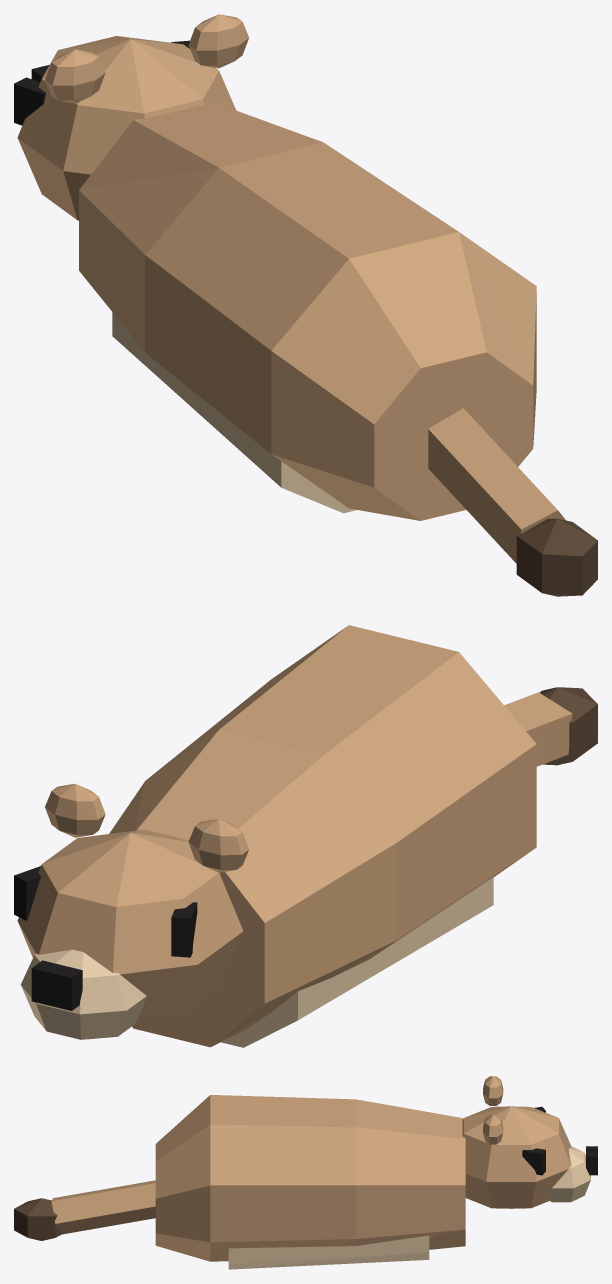
Rendered from animal_prairiedog.obj.
3 views of the same model, one above another, from view 1: azimuth 30°, elevation 25°; view 2: azimuth 150°, elevation 25°; view 3: azimuth 270°, elevation 25° (orthographic). The views are drawn at different scales.
Parts seen in each view (by area): view 1: animal_prairiedog; view 2: animal_prairiedog; view 3: animal_prairiedog.
Boxes of the visible parts, x1=… form: animal_prairiedog: x1=14, y1=14, x2=597, y2=596; animal_prairiedog: x1=14, y1=625, x2=597, y2=1047; animal_prairiedog: x1=14, y1=1076, x2=597, y2=1269.
Size of the model in its own units: 0.1848 by 0.1962 by 0.6403.
